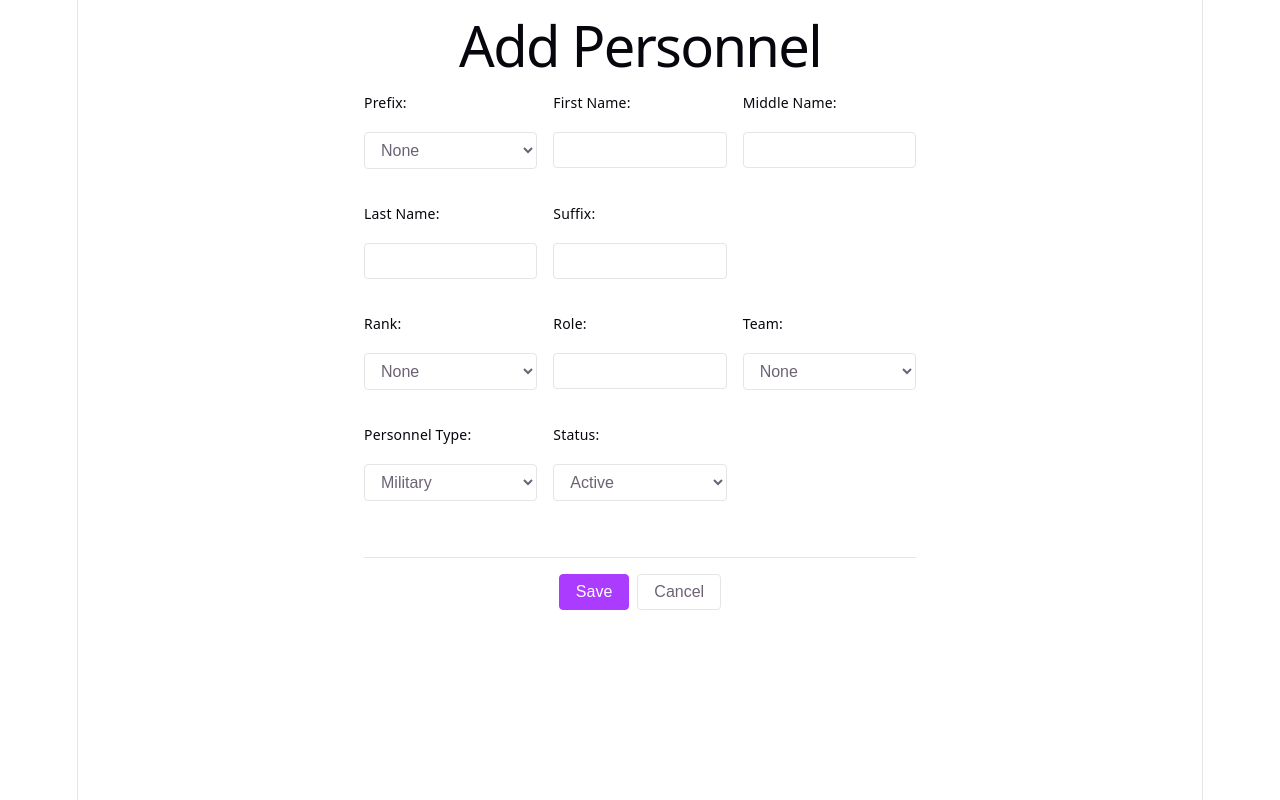
Test: PersonnelForm › should show an error message if team is blank
Type "Samuel" into the field labelled "First Name:".
click(640, 150); type("Samuel")  # box [553,132,727,168]
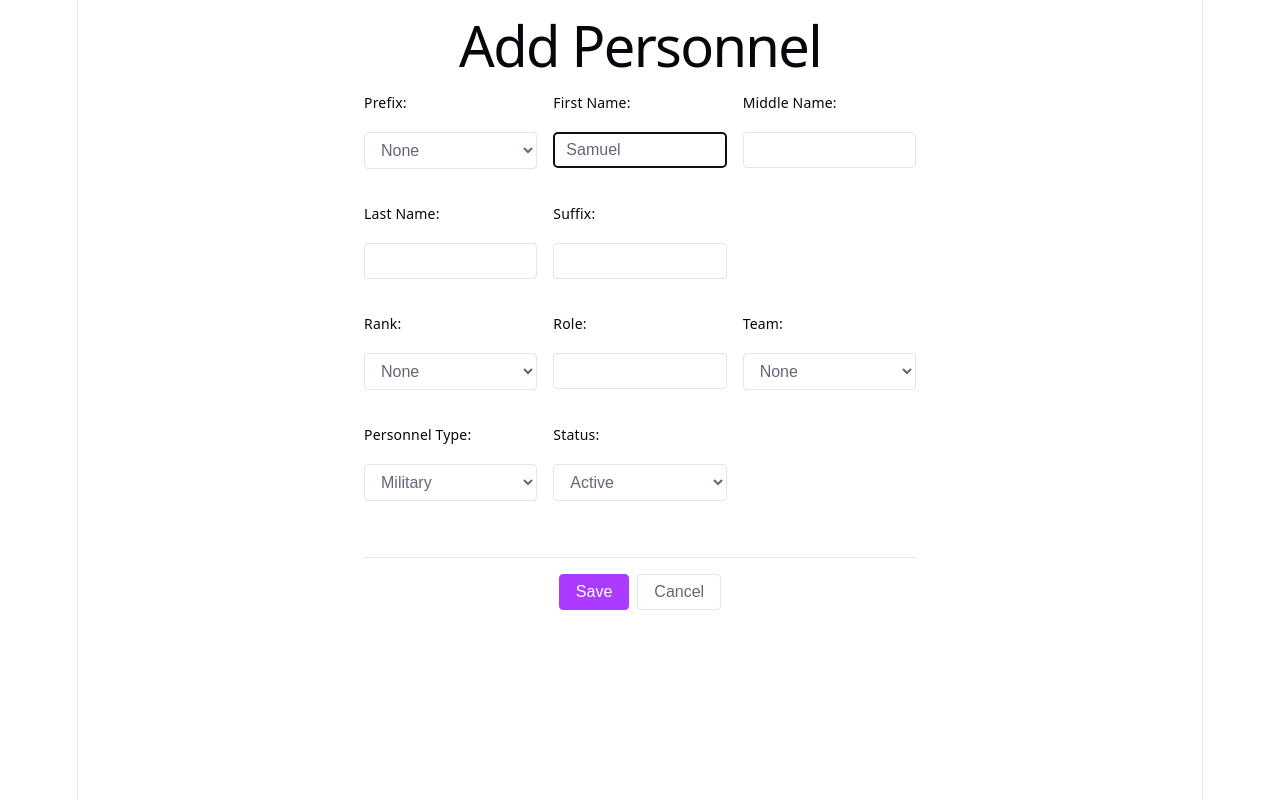
Type "Ybarra" into the field labelled "Last Name:".
click(451, 261); type("Ybarra")  # box [364,243,537,279]
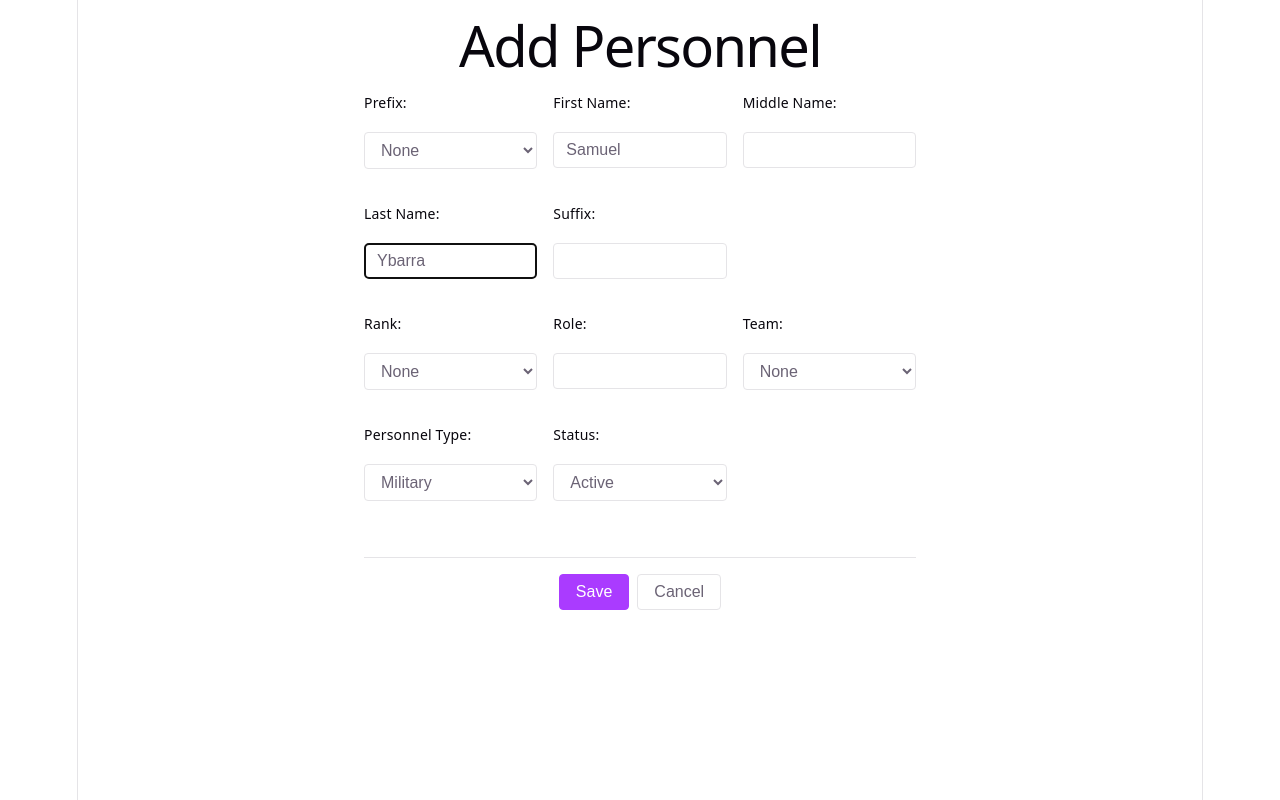
Type "Technical Expert" into the field labelled "Role:".
click(640, 371); type("Technical Expert")  # box [553,353,727,389]
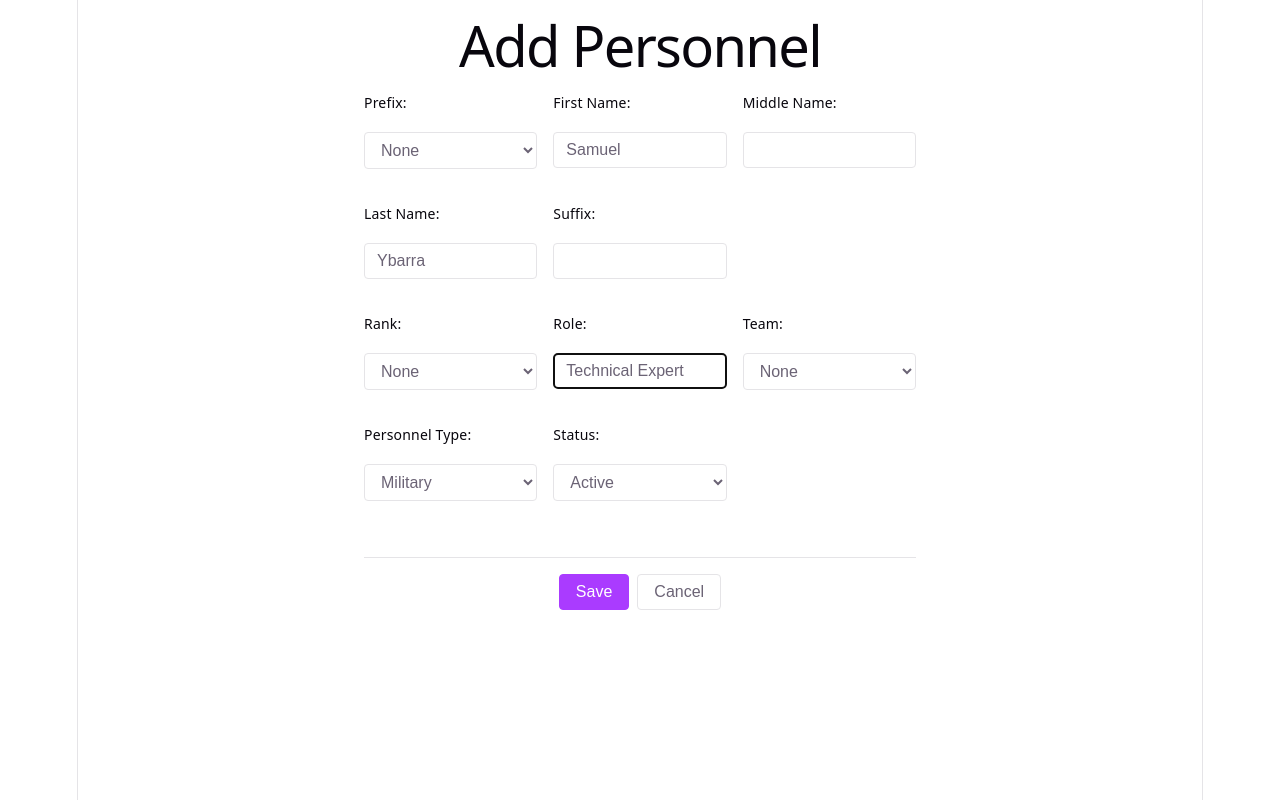
Click the button "Save".
click(594, 592)  # box [559,574,629,610]
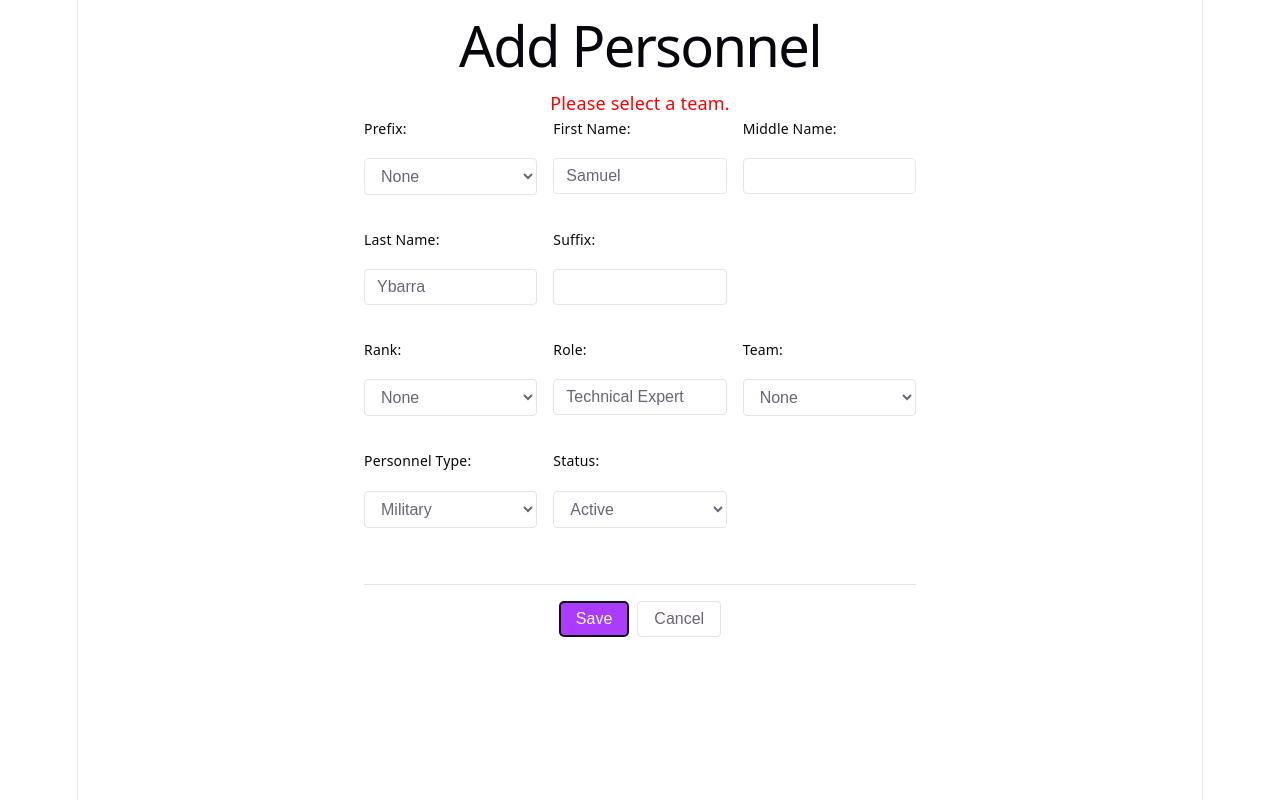
Expected: the text "Please select a team." is shown, [550,91,730,115]
